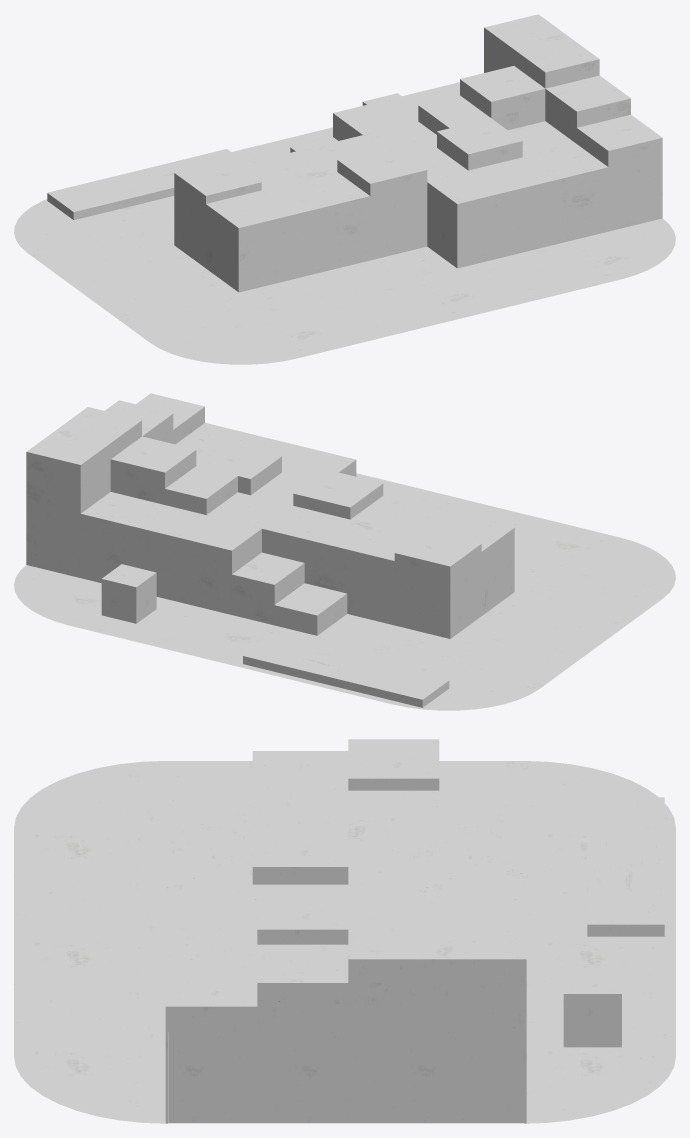
Rendered from m6-rmx1-2.glb.
3 renders of one model, top to bottom at view 1: azimuth 30°, elevation 25°; view 2: azimuth 150°, elevation 25°; view 3: azimuth 270°, elevation 25°, orthographic. The views are drawn at different scales.
Visible parts, largest first — view 1: Cube.002; view 2: Cube.002; view 3: Cube.002.
Boxes of the visible parts, x1,y1,x2,y2 form: Cube.002: (14, 14, 675, 364); Cube.002: (14, 393, 675, 710); Cube.002: (14, 739, 675, 1123).
Bounding box in the file's own units: 6.6 × 1.39 × 5.09.
Materials: 1 (1 with a texture image).
